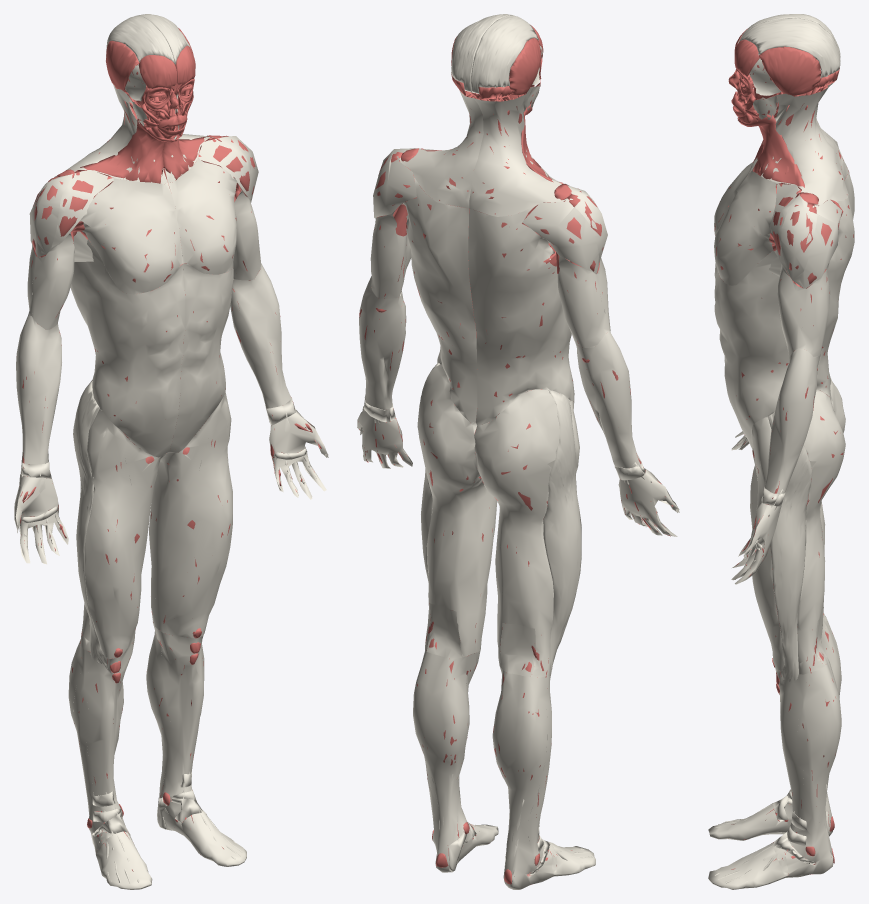
The model's file is muscular.glb.
3 views of the same model, side by side, from view 1: azimuth 30°, elevation 25°; view 2: azimuth 150°, elevation 25°; view 3: azimuth 270°, elevation 25° (orthographic). The views are drawn at different scales.
Parts seen in each view (by area): view 1: MUS.investing_abdominal_fascia.R, MUS.fascia_lata.L, MUS.fascia_lata.R, MUS.crural_fascia.L, MUS.crural_fascia.R, MUS.pectoral_fascia.R, MUS.investing_abdominal_fascia.L, MUS.pectoral_fascia.L, MUS.antebrachial_fascia.R, MUS.antebrachial_fascia.L, MUS.brachial_fascia.R, MUS.deltoid_fascia.R (+13 smaller); view 2: MUS.investing_abdominal_fascia.R, MUS.fascia_lata.R, MUS.fascia_lata.L, MUS.crural_fascia.R, MUS.investing_abdominal_fascia.L, MUS.crural_fascia.L, MUS.superficial_investing_cervical_fascia.R, MUS.iliotibial_tract.R, MUS.antebrachial_fascia.R, MUS.antebrachial_fascia.L, MUS.superficial_investing_cervical_fascia.L, MUS.deltoid_fascia.R (+11 smaller); view 3: MUS.investing_abdominal_fascia.L, MUS.crural_fascia.L, MUS.fascia_lata.L, MUS.iliotibial_tract.L, MUS.pectoral_fascia.L, MUS.superficial_investing_cervical_fascia.L, MUS.antebrachial_fascia.L, MUS.deltoid_fascia.L, MUS.brachial_fascia.L, MUS.epicranial_aponeurosis.L, MUS.crural_fascia.R, MUS.temporoparietalis_muscle.L (+15 smaller).
Part boxes in pixels (left/top/right/bottom): MUS.investing_abdominal_fascia.R: left=70, top=239, right=185, bottom=457; MUS.fascia_lata.L: left=149, top=391, right=232, bottom=638; MUS.fascia_lata.R: left=73, top=380, right=165, bottom=658; MUS.crural_fascia.L: left=146, top=621, right=246, bottom=866; MUS.crural_fascia.R: left=68, top=639, right=152, bottom=889; MUS.pectoral_fascia.R: left=79, top=178, right=182, bottom=294; MUS.investing_abdominal_fascia.L: left=167, top=263, right=233, bottom=452; MUS.pectoral_fascia.L: left=168, top=158, right=237, bottom=274; MUS.antebrachial_fascia.R: left=16, top=315, right=61, bottom=464; MUS.antebrachial_fascia.L: left=230, top=264, right=291, bottom=408; MUS.brachial_fascia.R: left=27, top=233, right=74, bottom=329; MUS.deltoid_fascia.R: left=29, top=170, right=113, bottom=257; MUS.investing_abdominal_fascia.R: left=468, top=206, right=574, bottom=426; MUS.fascia_lata.R: left=474, top=389, right=581, bottom=677; MUS.fascia_lata.L: left=417, top=364, right=497, bottom=657; MUS.crural_fascia.R: left=492, top=666, right=595, bottom=889; MUS.investing_abdominal_fascia.L: left=402, top=177, right=477, bottom=424; MUS.crural_fascia.L: left=413, top=650, right=498, bottom=872; MUS.superficial_investing_cervical_fascia.R: left=469, top=86, right=566, bottom=216; MUS.iliotibial_tract.R: left=543, top=390, right=581, bottom=675; MUS.antebrachial_fascia.R: left=575, top=330, right=641, bottom=468; MUS.antebrachial_fascia.L: left=359, top=276, right=406, bottom=409; MUS.superficial_investing_cervical_fascia.L: left=399, top=90, right=483, bottom=208; MUS.deltoid_fascia.R: left=522, top=176, right=607, bottom=274; MUS.investing_abdominal_fascia.L: left=714, top=195, right=854, bottom=448; MUS.crural_fascia.L: left=708, top=657, right=841, bottom=889; MUS.fascia_lata.L: left=751, top=389, right=845, bottom=674; MUS.iliotibial_tract.L: left=768, top=412, right=812, bottom=683; MUS.pectoral_fascia.L: left=714, top=171, right=776, bottom=285; MUS.superficial_investing_cervical_fascia.L: left=752, top=83, right=848, bottom=205; MUS.antebrachial_fascia.L: left=764, top=348, right=820, bottom=493; MUS.deltoid_fascia.L: left=770, top=184, right=842, bottom=288; MUS.brachial_fascia.L: left=777, top=262, right=830, bottom=357; MUS.epicranial_aponeurosis.L: left=738, top=18, right=840, bottom=78; MUS.crural_fascia.R: left=708, top=616, right=841, bottom=840; MUS.temporoparietalis_muscle.L: left=759, top=46, right=821, bottom=95.
Size of the model in its own units: 0.6692 by 1.7 by 0.269.
